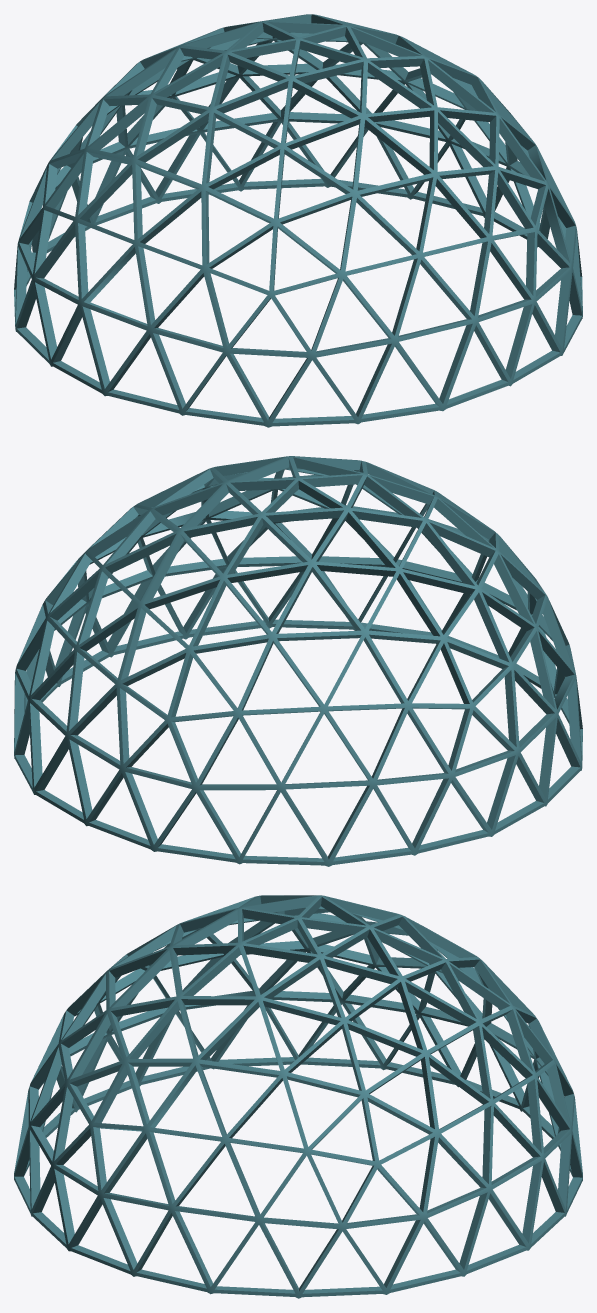
Rendered from Domo.obj.
The picture shows the model from 3 angles, top to bottom: view 1: azimuth 30°, elevation 25°; view 2: azimuth 150°, elevation 25°; view 3: azimuth 270°, elevation 25°; orthographic projection.
Visible parts, largest first — view 1: Domo:Bio_Frame; view 2: Domo:Bio_Frame; view 3: Domo:Bio_Frame.
Boxes of the visible parts, bbox=[...] form: Domo:Bio_Frame: bbox=[14, 14, 582, 427]; Domo:Bio_Frame: bbox=[14, 456, 582, 866]; Domo:Bio_Frame: bbox=[14, 895, 582, 1298].
Bounding box in the file's own units: 111 × 57.24 × 112.
1 material, 1 textured.
